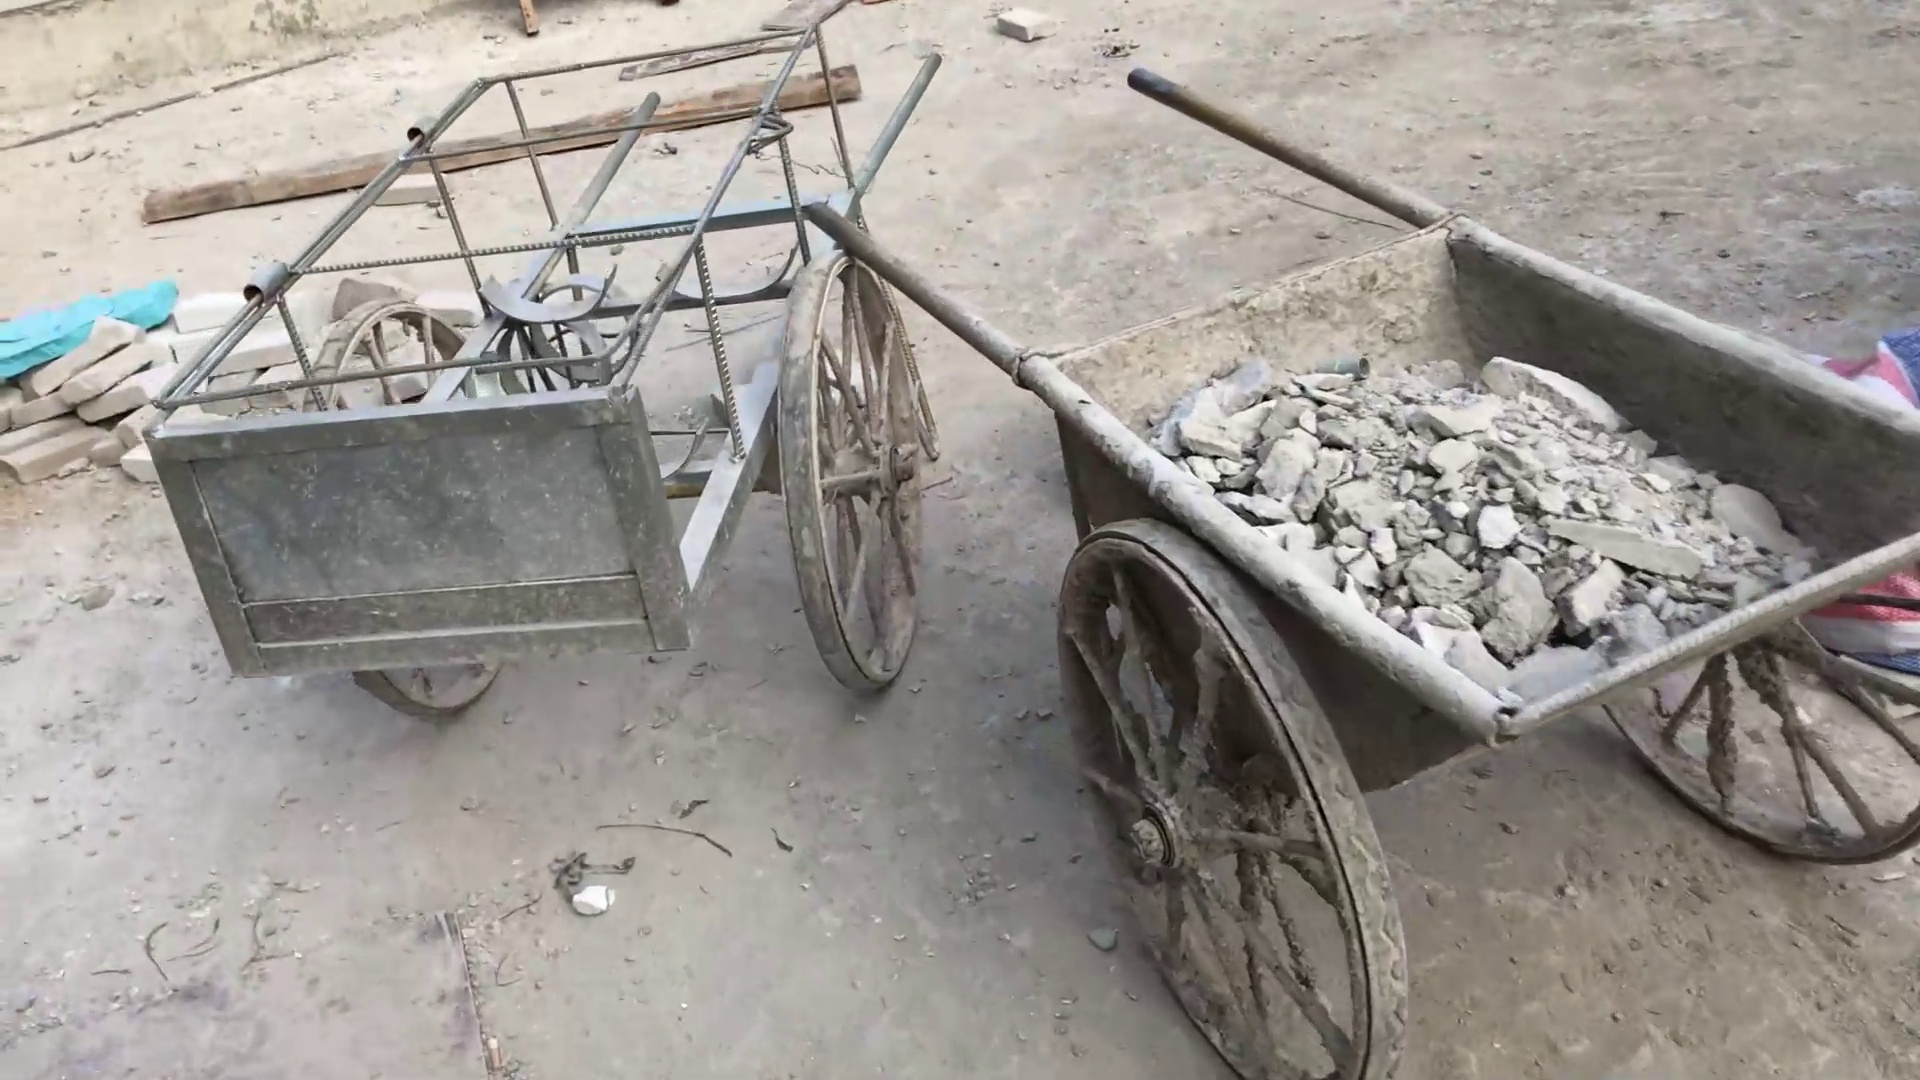handcart: (771, 95, 1920, 1044), (131, 44, 945, 715)
